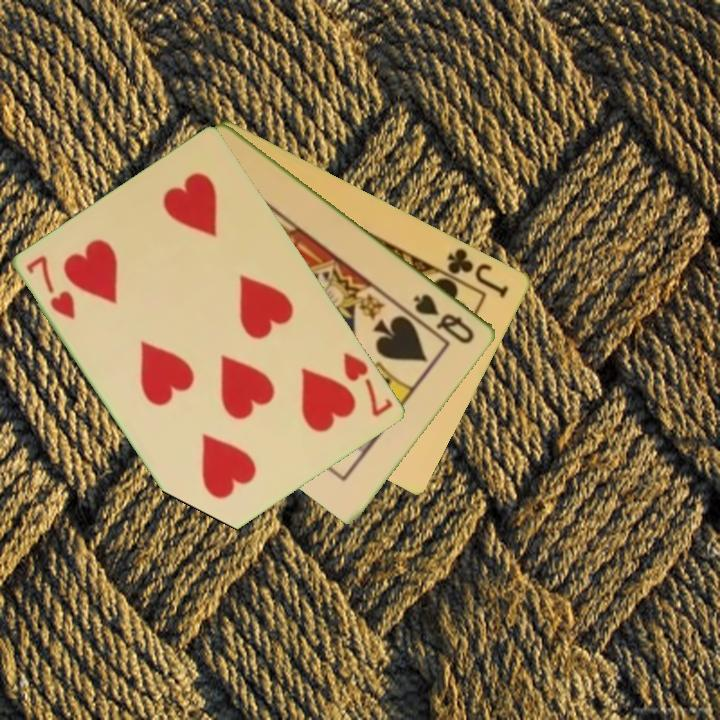7h: (340, 349, 396, 420), (23, 252, 79, 323)
Jc: (444, 244, 513, 301)
Qs: (409, 290, 478, 347)
